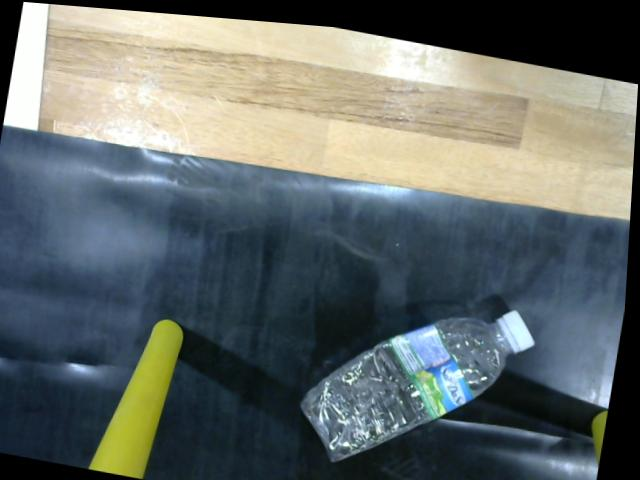bottle: (303, 298, 542, 458)
